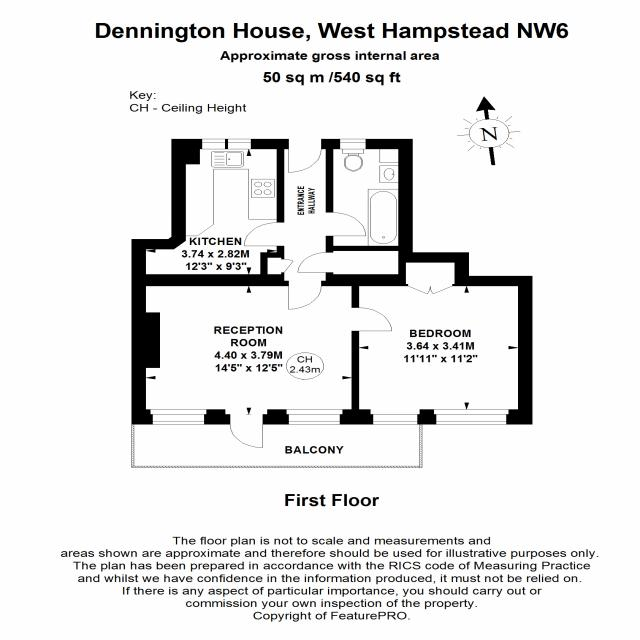DOOR: (224, 409, 268, 448), (283, 274, 327, 310), (287, 139, 323, 174), (352, 306, 394, 333), (243, 222, 284, 247), (326, 212, 367, 237)
ROOM: (131, 274, 393, 449), (352, 252, 533, 425), (131, 139, 285, 286)
WINDOW: (433, 409, 510, 425), (150, 409, 207, 425), (286, 409, 343, 425), (372, 413, 418, 425), (339, 139, 366, 150), (202, 139, 225, 149), (228, 139, 251, 149)
